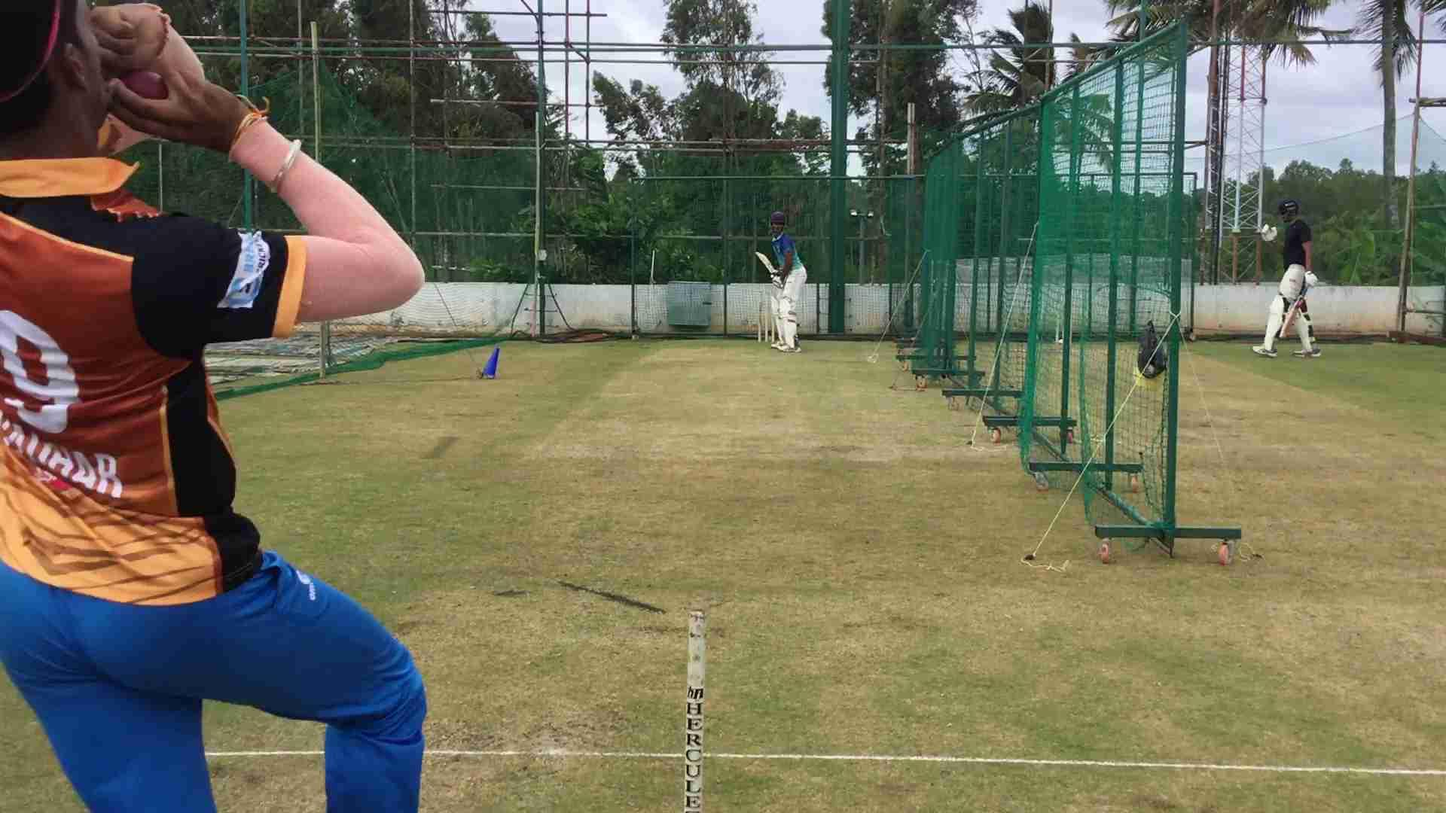batsman: (767, 204, 812, 353)
